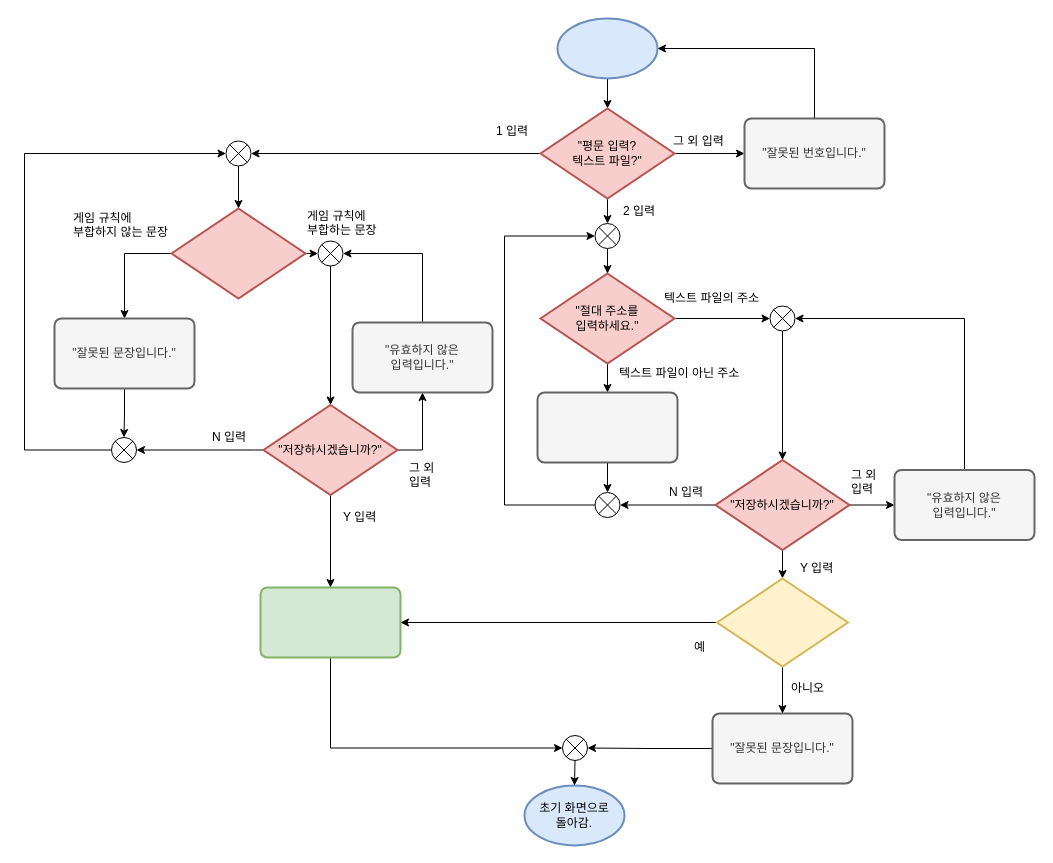
This 1053x863 diagram has some shape labels left out. The box of each missing label's shape, as (x1, y1, x2, y2) in pixels:
"잘못된 주소입니다.": (536, 391, 678, 463)
"평문을 입력하세요.": (170, 207, 306, 299)
문제 추가 화면: (556, 17, 658, 79)
입력된 문장을 클래스 내부 변수에 저장.: (259, 586, 401, 658)
입력된 문장이 게임 규칙에 부합하는가?: (716, 577, 848, 667)
